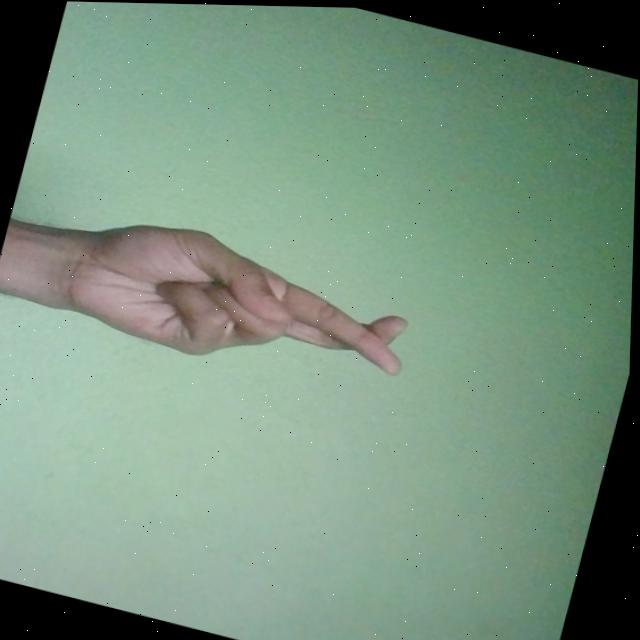Good Luck: (50, 198, 425, 405)
